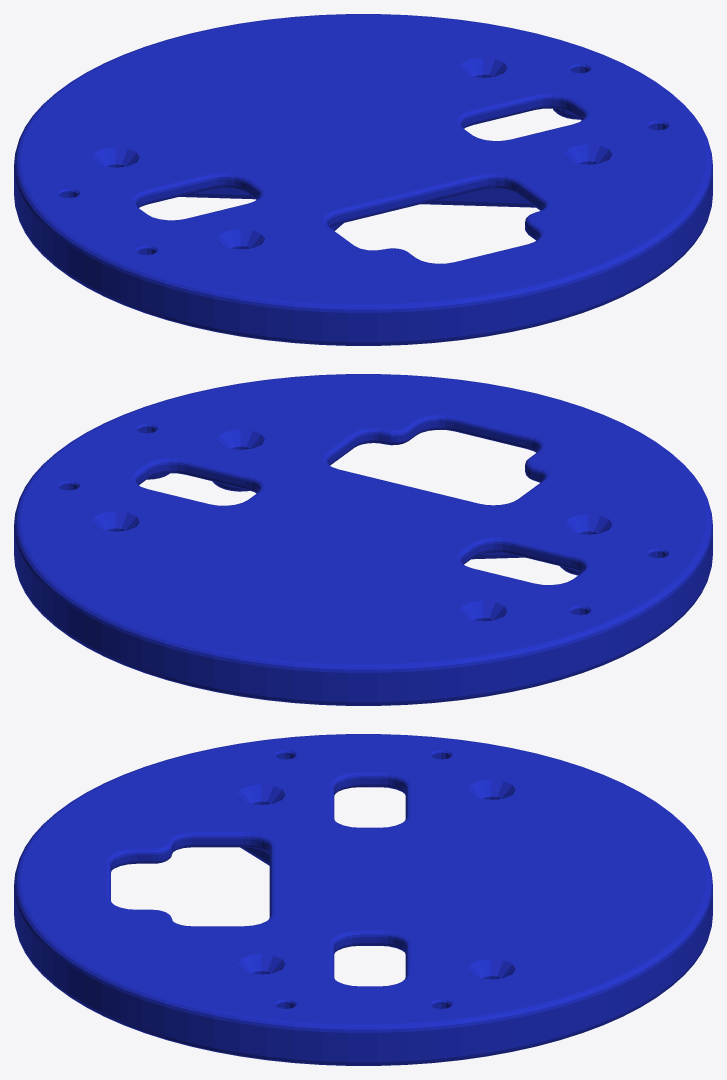
File: TopPlateColor.dae
The picture shows the model from 3 angles, top to bottom: view 1: azimuth 30°, elevation 25°; view 2: azimuth 150°, elevation 25°; view 3: azimuth 270°, elevation 25°; orthographic projection.
Parts seen in each view (by area): view 1: TopPlateV3; view 2: TopPlateV3; view 3: TopPlateV3.
Part boxes in pixels (x1=…): TopPlateV3: x1=14, y1=14, x2=712, y2=345; TopPlateV3: x1=14, y1=374, x2=712, y2=705; TopPlateV3: x1=14, y1=734, x2=712, y2=1065.
Bounding box in the file's own units: 0.1079 × 0.108 × 0.007.
